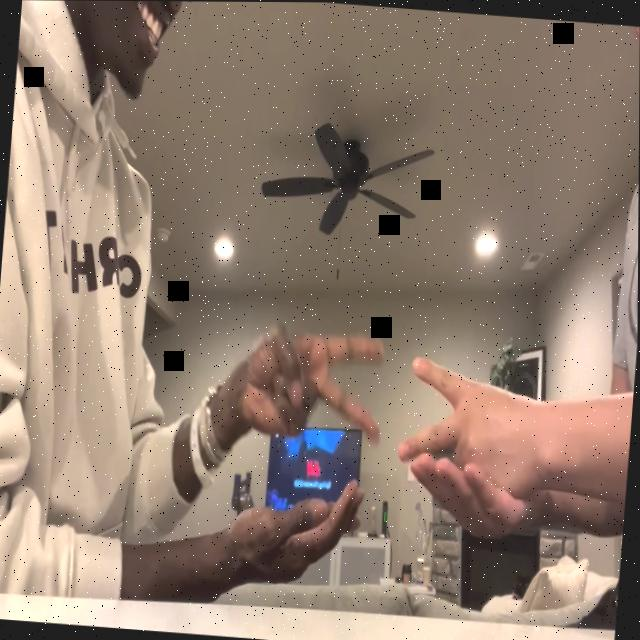Scissors: (396, 354, 549, 506), (240, 320, 386, 466)
